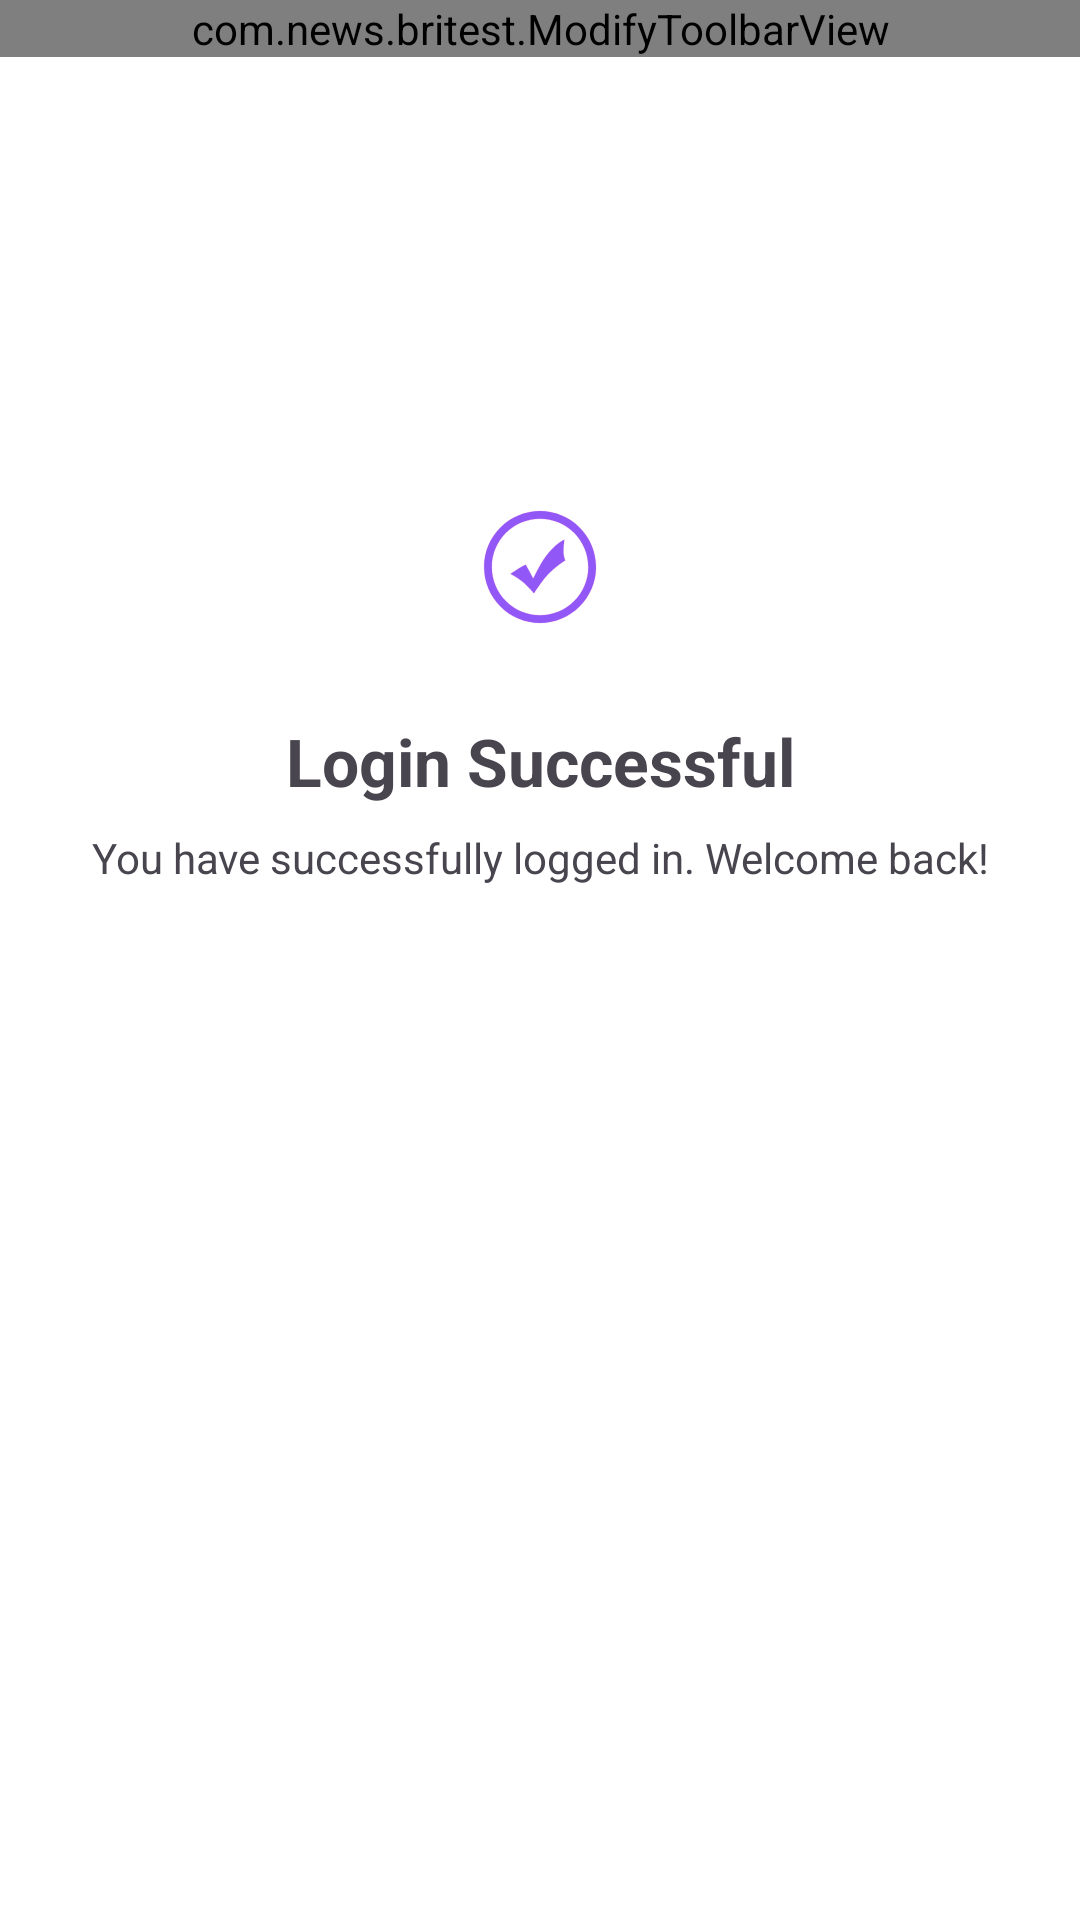

Screen size 1080*1920. Icon name, then its center in pixels as (x,y):
Success Icon: (540,567)
